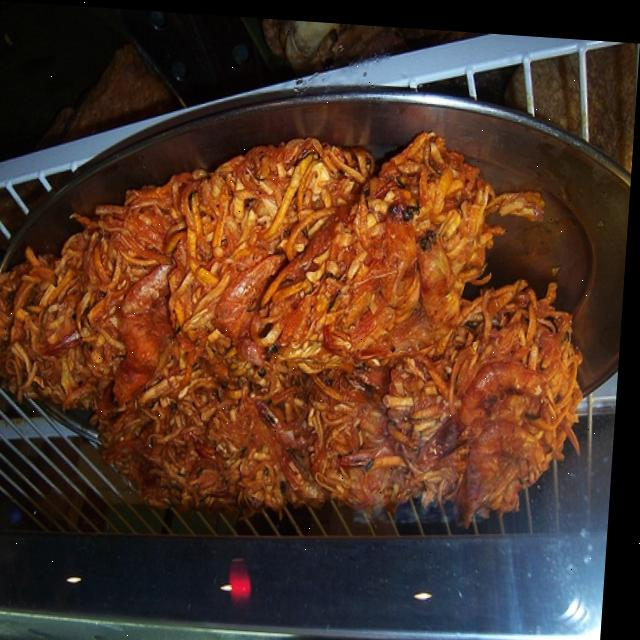炸货点心: (0, 80, 609, 573)
熟制海鲜: (0, 80, 609, 573)
